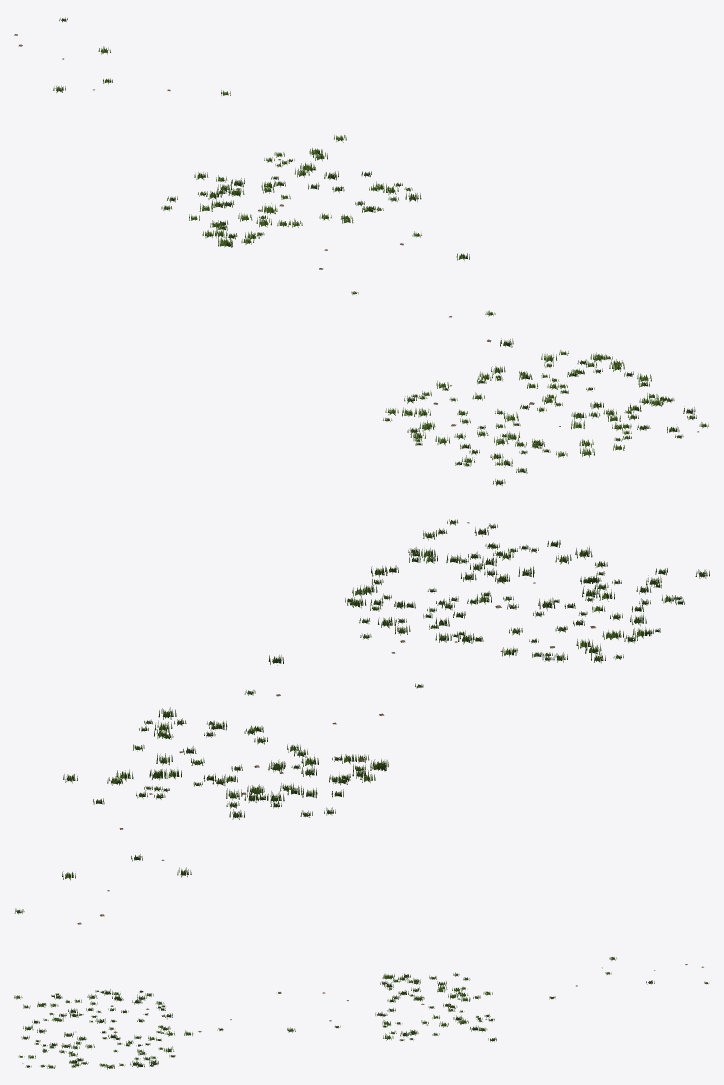
Rendered from scatter.glb.
3 views of the same model, one above another, from view 1: azimuth 30°, elevation 25°; view 2: azimuth 150°, elevation 25°; view 3: azimuth 270°, elevation 25° (orthographic). The views are drawn at different scales.
Parts seen in each view (by area): view 1: top5, top6; view 2: top5, top6; view 3: top5, top6.
Part boxes in pixels (left/top/right/bottom): top5: left=383, top=350, right=708, bottom=485; top6: left=161, top=135, right=421, bottom=247; top5: left=345, top=519, right=709, bottom=663; top6: left=63, top=707, right=388, bottom=819; top5: left=14, top=989, right=175, bottom=1069; top6: left=375, top=972, right=496, bottom=1041.
Size of the model in its own units: 13.98 by 3.77 by 51.51.
Materials: 2 (2 with a texture image).
